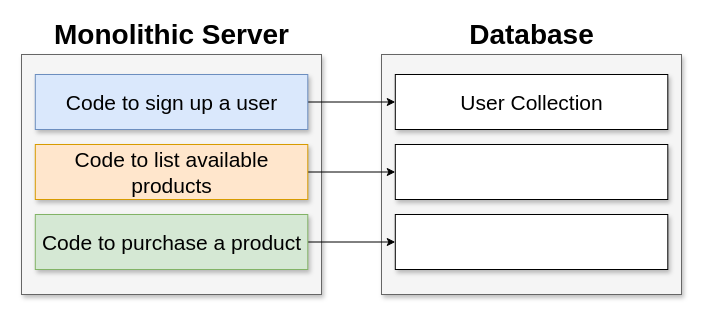
Some shapes in this 705 by 319 pixel diagram are drawn without their labels. The centre of each missing label's shape, as x and y in pixels:
"Orders Collection" belongs at point (532, 243).
"Products Collection" belongs at point (532, 173).
